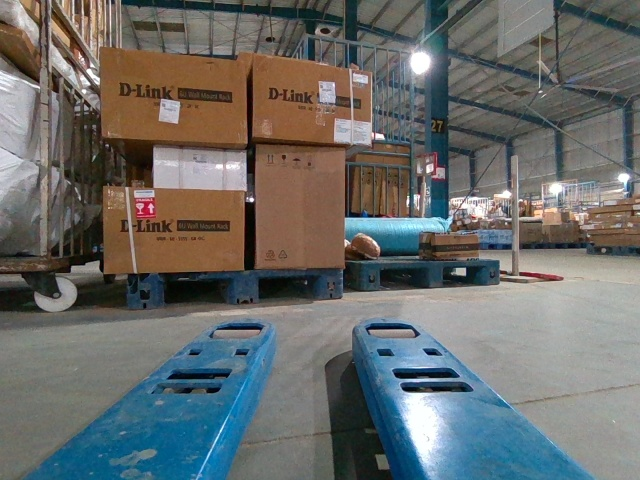block: (128, 272, 164, 307), (229, 272, 260, 306), (318, 266, 344, 304), (360, 261, 383, 294), (427, 260, 444, 289), (484, 261, 499, 285)
front: (128, 269, 342, 308), (361, 258, 499, 292)
hole pallet: (162, 273, 233, 307), (256, 271, 319, 302), (377, 262, 433, 287), (441, 261, 487, 284)
